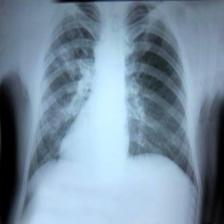tuberculosis: (22, 1, 202, 224)
